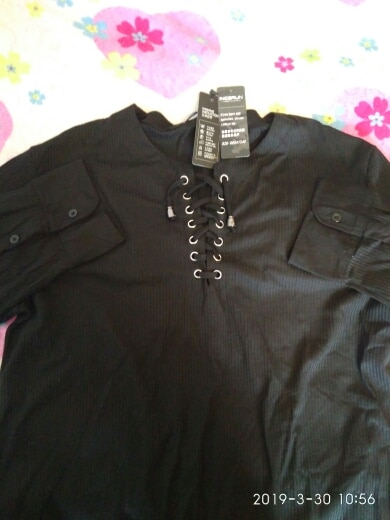shirts: (18, 105, 390, 501)
